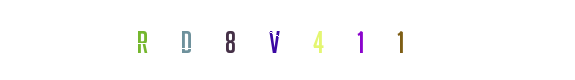1: (261, 0, 341, 80), (313, 0, 393, 80)
4: (248, 0, 328, 80)
8: (233, 0, 313, 80)
D: (166, 0, 246, 80)
R: (144, 0, 224, 80)
V: (234, 0, 314, 80)
